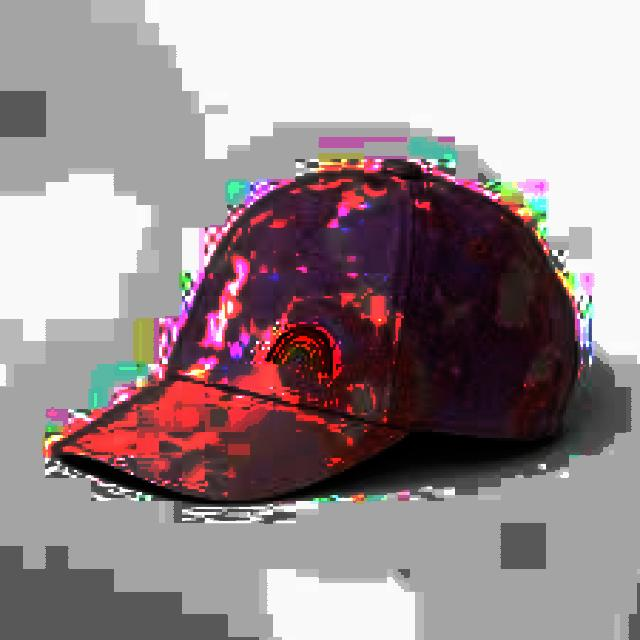TOPI: (35, 128, 596, 544)
